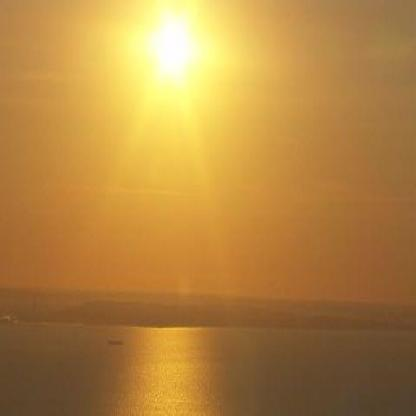other: (100, 0, 236, 151)
